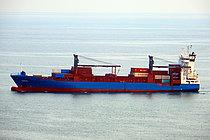Ship: (9, 41, 205, 98)
